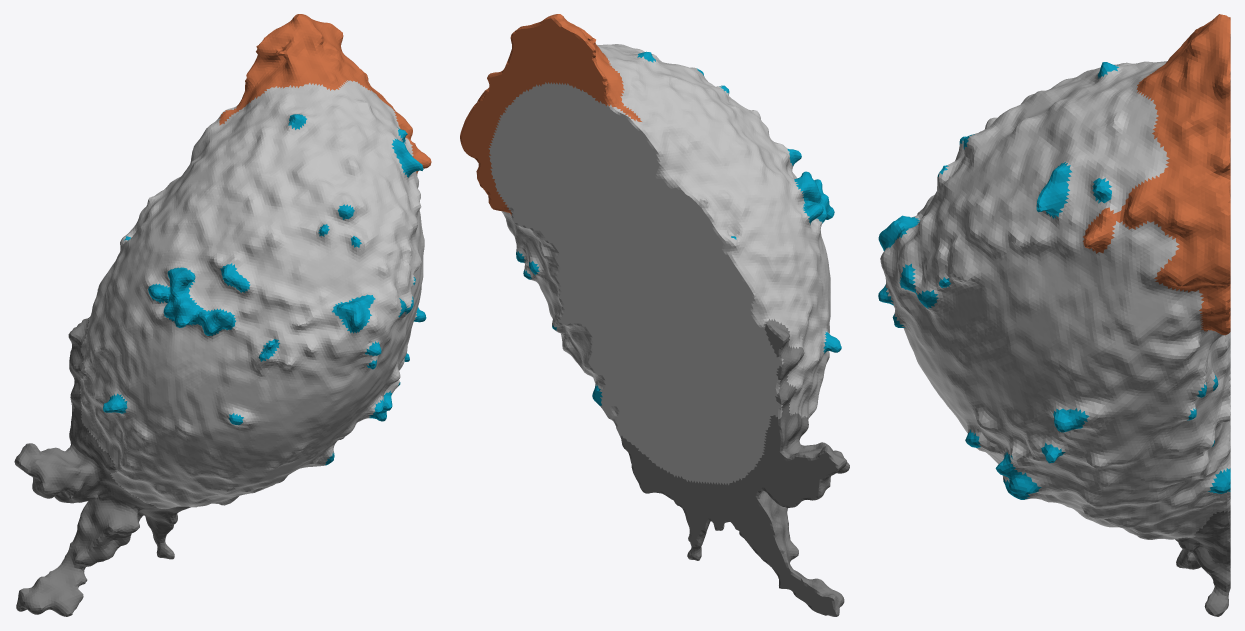
3 renders of one model, left to right at view 1: azimuth 30°, elevation 25°; view 2: azimuth 150°, elevation 25°; view 3: azimuth 270°, elevation 25°, orthographic. The views are drawn at different scales.
Bounding box in the file's own units: 119 × 160 × 71.59.
